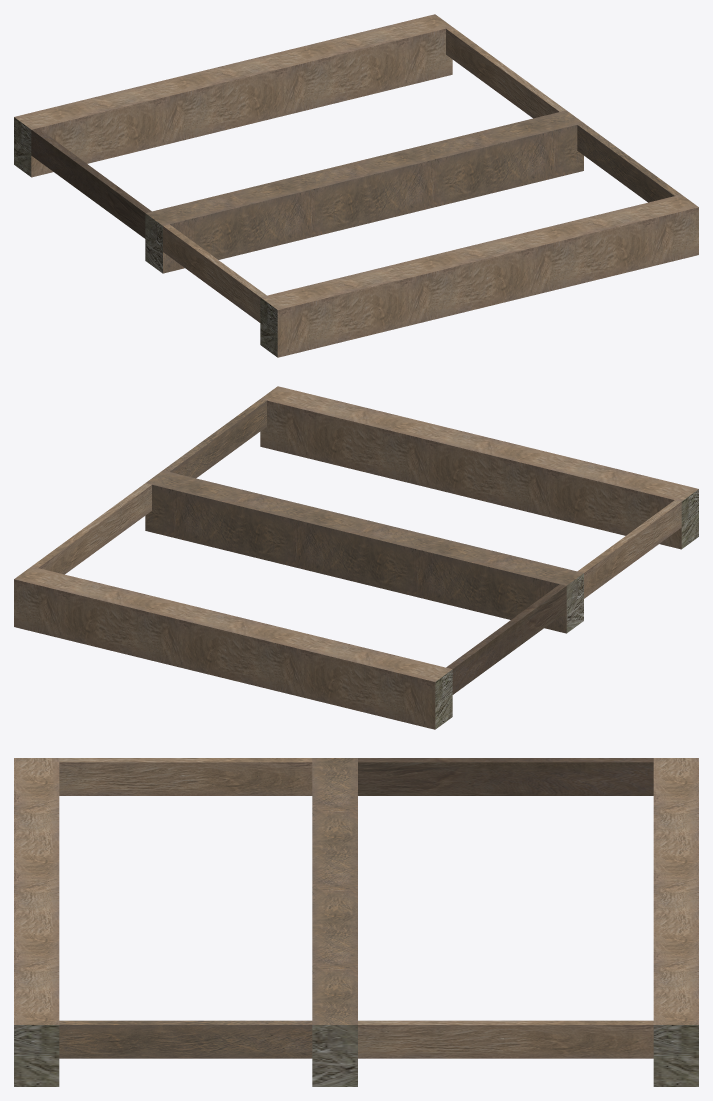
The model's file is RafterCenterEndGOppisite.fbx.
3 views of the same model, one above another, from view 1: azimuth 30°, elevation 25°; view 2: azimuth 150°, elevation 25°; view 3: azimuth 270°, elevation 25° (orthographic). The views are drawn at different scales.
Visible parts, largest first — view 1: RafterCenterEndGOppisite; view 2: RafterCenterEndGOppisite; view 3: RafterCenterEndGOppisite.
Part boxes in pixels (x1=…): RafterCenterEndGOppisite: x1=14, y1=14, x2=698, y2=357; RafterCenterEndGOppisite: x1=14, y1=386, x2=698, y2=729; RafterCenterEndGOppisite: x1=14, y1=758, x2=698, y2=1086.
Bounding box in the file's own units: 374 × 40.53 × 406.
